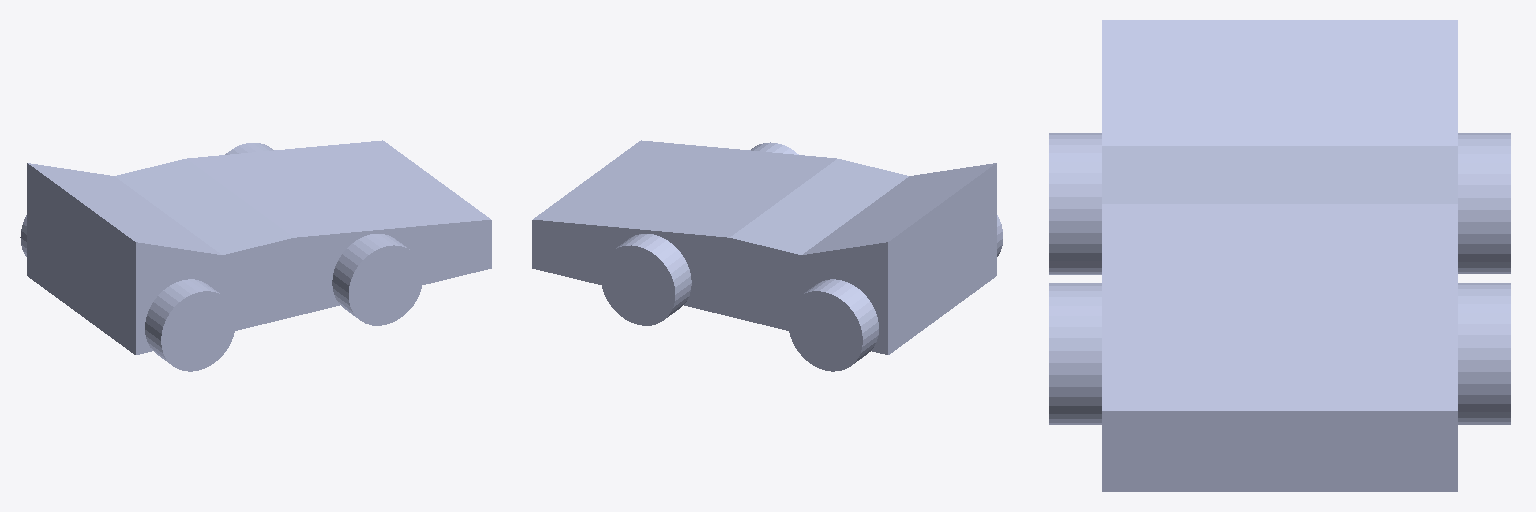
robot.urdf — robot:
<?xml version="1.0" encoding="utf-8"?>
<!-- =================================================================================== -->
<!-- |    This document was autogenerated by xacro from toy_car_3_integration.urdf.xacro | -->
<!-- |    EDITING THIS FILE BY HAND IS NOT RECOMMENDED                                 | -->
<!-- =================================================================================== -->
<!-- Name your robot here -->
<robot name="">
  <link name="base_link">
    <inertial>
      <origin rpy="0 0 0" xyz="0.0953137510067839 0 -0.101443848109706"/>
      <mass value="90.4863171622024"/>
      <inertia ixx="2.31734101461935" ixy="9.40606923907818E-17" ixz="0.534422646160281" iyy="7.29012414676684" iyz="8.33231985741877E-18" izz="8.86465995750526"/>
    </inertial>
    <visual>
      <origin rpy="0 0 0" xyz="0 0 0"/>
      <geometry>
        <mesh filename="package://toy_car_3/meshes/base_link.STL"/>
      </geometry>
      <material name="">
        <color rgba="0.792156862745098 0.819607843137255 0.933333333333333 1"/>
      </material>
    </visual>
    <collision>
      <origin rpy="0 0 0" xyz="0 0 0"/>
      <geometry>
        <mesh filename="package://toy_car_3/meshes/base_link.STL"/>
      </geometry>
    </collision>
  </link>
  <link name="BR_coord">
    <inertial>
      <origin rpy="0 0 0" xyz="-1.1102E-16 0.047495 -1.4572E-16"/>
      <mass value="2.8186"/>
      <inertia ixx="0.009636" ixy="7.9039E-20" ixz="7.1367E-20" iyy="0.013006" iyz="9.4932E-19" izz="0.009636"/>
    </inertial>
    <visual>
      <origin rpy="0 0 0" xyz="0 0 0"/>
      <geometry>
        <mesh filename="package://toy_car_3/meshes/BR_coord.STL"/>
      </geometry>
      <material name="">
        <color rgba="0.79216 0.81961 0.93333 1"/>
      </material>
    </visual>
    <collision>
      <origin rpy="0 0 0" xyz="0 0 0"/>
      <geometry>
        <mesh filename="package://toy_car_3/meshes/BR_coord.STL"/>
      </geometry>
    </collision>
  </link>
  <joint name="BR_coord" type="continuous">
    <origin rpy="0 0 0" xyz="-0.20624 -0.3302 -0.14111"/>
    <parent link="base_link"/>
    <child link="BR_coord"/>
    <axis xyz="0 1 0"/>
    <limit effort="1" velocity="1"/>
  </joint>
  <link name="BL_wheel">
    <inertial>
      <origin rpy="0 0 0" xyz="-1.1102E-16 -0.047495 6.9389E-18"/>
      <mass value="2.8186"/>
      <inertia ixx="0.009636" ixy="2.8579E-19" ixz="-2.5413E-35" iyy="0.013006" iyz="-2.2429E-35" izz="0.009636"/>
    </inertial>
    <visual>
      <origin rpy="0 0 0" xyz="0 0 0"/>
      <geometry>
        <mesh filename="package://toy_car_3/meshes/BL_wheel.STL"/>
      </geometry>
      <material name="">
        <color rgba="0.79216 0.81961 0.93333 1"/>
      </material>
    </visual>
    <collision>
      <origin rpy="0 0 0" xyz="0 0 0"/>
      <geometry>
        <mesh filename="package://toy_car_3/meshes/BL_wheel.STL"/>
      </geometry>
    </collision>
  </link>
  <joint name="BL_joint" type="continuous">
    <origin rpy="0 0 0" xyz="-0.20624 0.3302 -0.14111"/>
    <parent link="base_link"/>
    <child link="BL_wheel"/>
    <axis xyz="0 1 0"/>
    <limit effort="1" velocity="1"/>
  </joint>
  <link name="FL_wheel">
    <inertial>
      <origin rpy="0 0 0" xyz="0 -0.047495 6.9389E-18"/>
      <mass value="2.8186"/>
      <inertia ixx="0.009636" ixy="2.8579E-19" ixz="-2.5413E-35" iyy="0.013006" iyz="-2.2429E-35" izz="0.009636"/>
    </inertial>
    <visual>
      <origin rpy="0 0 0" xyz="0 0 0"/>
      <geometry>
        <mesh filename="package://toy_car_3/meshes/FL_wheel.STL"/>
      </geometry>
      <material name="">
        <color rgba="0.79216 0.81961 0.93333 1"/>
      </material>
    </visual>
    <collision>
      <origin rpy="0 0 0" xyz="0 0 0"/>
      <geometry>
        <mesh filename="package://toy_car_3/meshes/FL_wheel.STL"/>
      </geometry>
    </collision>
  </link>
  <joint name="FL_joint" type="continuous">
    <origin rpy="0 0 0" xyz="0.30176 0.3302 -0.14111"/>
    <parent link="base_link"/>
    <child link="FL_wheel"/>
    <axis xyz="0 1 0"/>
    <limit effort="1" velocity="1"/>
  </joint>
  <link name="FR_wheel">
    <inertial>
      <origin rpy="0 0 0" xyz="-1.3878E-17 0.047495 6.9389E-18"/>
      <mass value="2.8186"/>
      <inertia ixx="0.009636" ixy="2.8528E-19" ixz="-1.0318E-18" iyy="0.013006" iyz="-1.2618E-19" izz="0.009636"/>
    </inertial>
    <visual>
      <origin rpy="0 0 0" xyz="0 0 0"/>
      <geometry>
        <mesh filename="package://toy_car_3/meshes/FR_wheel.STL"/>
      </geometry>
      <material name="">
        <color rgba="0.79216 0.81961 0.93333 1"/>
      </material>
    </visual>
    <collision>
      <origin rpy="0 0 0" xyz="0 0 0"/>
      <geometry>
        <mesh filename="package://toy_car_3/meshes/FR_wheel.STL"/>
      </geometry>
    </collision>
  </link>
  <joint name="FR_joint" type="continuous">
    <origin rpy="0 0 0" xyz="0.30176 -0.3302 -0.14111"/>
    <parent link="base_link"/>
    <child link="FR_wheel"/>
    <axis xyz="0 1 0"/>
    <limit effort="1" velocity="1"/>
  </joint>
  <gazebo reference="base_link">
    <material>Gazebo/Red</material>
  </gazebo>
  <link name="base_laser">
    <inertial>
      <origin rpy="0 0 0" xyz="-0.00029774 0.0066667 0.00013047"/>
      <mass value="0.15717"/>
      <inertia ixx="6.7885E-05" ixy="-1.3987E-07" ixz="-8.1554E-07" iyy="0.00013173" iyz="-9.0932E-08" izz="7.1972E-05"/>
    </inertial>
    <visual>
      <origin rpy="0 0 0" xyz="0 0 0"/>
      <geometry>
        <mesh filename="package://toy_car_3/meshes/ydlidar.dae"/>
      </geometry>
      <material name="">
        <color rgba="0.64706 0.61961 0.58824 1"/>
      </material>
    </visual>
    <collision>
      <origin rpy="0 0 0" xyz="0 0 0"/>
      <geometry>
        <mesh filename="package://toy_car_3/meshes/ydlidar.dae"/>
      </geometry>
    </collision>
  </link>
  <link name="laser_frame">
    <inertial>
      <origin rpy="0 0 0" xyz="-0.00036659 0.00064155 -0.00027052"/>
      <mass value="0.25482"/>
      <inertia ixx="8.9194E-05" ixy="1.8116E-07" ixz="3.6435E-08" iyy="0.00018279" iyz="2.423E-07" izz="0.00011103"/>
    </inertial>
    <!--visual>
      <origin
        xyz="0 0 0"
        rpy="0 0 0" />
      <geometry>
        <mesh
          filename="package://toy_car_3/meshes/ydlidar.dae" />
      </geometry>
      <material
        name="">
        <color
          rgba="0.64706 0.61961 0.58824 1" />
      </material>
    </visual-->
    <!--collision>
      <origin
        xyz="0 0 0"
        rpy="0 0 0" />
      <geometry>
        <mesh
          filename="package://toy_car_3/meshes/ydlidar.dae" />
      </geometry>
    </collision-->
  </link>
  <joint name="laser_joint" type="fixed">
    <origin rpy="0 0 0" xyz="0 0 0.03172"/>
    <parent link="base_laser"/>
    <child link="laser_frame"/>
    <axis xyz="0 0 0"/>
  </joint>
  <!-- Add your gazebo sensors here -->
  <!-- gazebo_ydlidar.xml -->
  <!-- <gazebo reference="laser">
    <sensor:ray name="laser">
      <rayCount>180</rayCount>
      <rangeCount>180</rangeCount>
      <laserCount>1</laserCount>

      <origin>0.0 0.0 0.0</origin>
      <displayRays>false</displayRays>

      <minAngle>-130</minAngle>
      <maxAngle>130</maxAngle>

      <minRange>0.08</minRange>
      <maxRange>10.0</maxRange>
      <resRange>0.01</resRange>
      <updateRate>20</updateRate>
      <controller:gazebo_ros_laser name="gazebo_ros_laser_controller" plugin="libgazebo_ros_laser.so">
    <gaussianNoise>0.005</gaussianNoise>
    <alwaysOn>true</alwaysOn>
    <updateRate>20</updateRate>
    <topicName>scan</topicName>
    <frameName>laser</frameName>
    <interface:laser name="gazebo_ros_laser_iface" />
      </controller:gazebo_ros_laser>
    </sensor:ray>
  </gazebo> -->
  <gazebo reference="base_laser">
    <!-- <gravity>true</gravity> -->
    <!-- Gazebo has fixed set of Sensors types. Check them out here <> -->
    <sensor name="laser" type="ray">
      <!-- Add in your sensor characteristics -->
      <pose> 0 0 0 0 0 0 </pose>
      <visualise>true</visualise>
      <update_rate>40</update_rate>
      <!-- <always_on>true</always_on> -->
      <ray>
        <scan>
          <horizontal>
            <samples>720</samples>
            <resolution>1</resolution>
            <min_angle>-1.570796</min_angle>
            <max_angle>1.570796</max_angle>
          </horizontal>
        </scan>
        <range>
          <min>0.10</min>
          <max>30.0</max>
          <resolution>0.01</resolution>
        </range>
        <noise>
          <type>gaussian</type>
          <mean>0.0</mean>
          <stddev>0.01</stddev>
        </noise>
      </ray>
      <plugin filename="libgazebo_ros_laser.so" name="gazebo_ros_head_hokuyo_controller">
        <!-- Use topic name as /my_robot/scan -->
        <topicName/>
        <frameName>laser_frame</frameName>
      </plugin>
    </sensor>
  </gazebo>
  <!--  Gazebo plugin for control here is already added for you -->
  <gazebo>
    <plugin filename="libgazebo_ros_control.so" name="gazebo_ros_control">
      <robotNamespace>/simple_car</robotNamespace>
      <robotSimType>gazebo_ros_control/DefaultRobotHWSim</robotSimType>
      <legacyModeNS>true</legacyModeNS>
    </plugin>
  </gazebo>
  <!-- Create a joint between your robot and sensor -->
  <!-- Kavya -->
  <joint name="laser_joint_bot" type="fixed">
    <origin rpy="0 0 0" xyz="-0.065 0 0.075"/>
    <parent link="base_link"/>
    <child link="base_laser"/>
  </joint>
  <!-- Kavya -->
</robot>

--- What the picture shows (computed from the rendered views, not written in the file) ---
3 views of the same robot in one strip: view 1: azimuth 30°, elevation 25°; view 2: azimuth 150°, elevation 25°; view 3: azimuth 270°, elevation 25° (orthographic).
Robot: robot — 7 links, 6 joints (4 continuous, 2 fixed); root link base_link; default pose: every joint at zero.
Links seen in each view (by area): view 1: base_link, BR_coord, FR_wheel; view 2: base_link, BL_wheel, FL_wheel; view 3: base_link, BR_coord, FL_wheel, FR_wheel, BL_wheel.
Boxes of the visible links, x1,y1,x2,y2 form: base_link: [27, 140, 491, 354]; BR_coord: [145, 279, 235, 371]; FR_wheel: [332, 234, 422, 325]; base_link: [532, 140, 996, 354]; BL_wheel: [788, 279, 878, 371]; FL_wheel: [601, 234, 691, 325]; base_link: [1102, 20, 1457, 491]; BR_coord: [1049, 133, 1101, 274]; FL_wheel: [1458, 283, 1510, 424]; FR_wheel: [1049, 283, 1101, 424]; BL_wheel: [1458, 133, 1510, 273].
Bounding box of the posed robot: 0.9652 × 0.6604 × 0.3317 m (x, y, z).
5 mesh visuals loaded from 6 distinct referenced files (5 binary STL); not drawn: 1 (reference not matched to a file when rendering).
